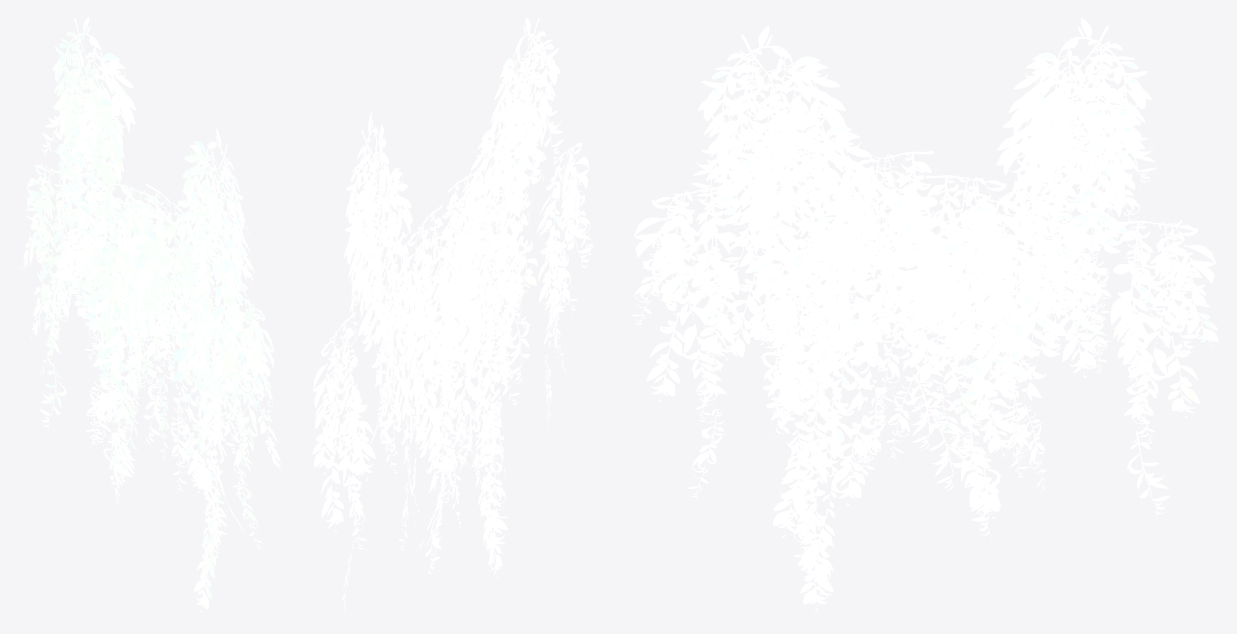
3 renders of one model, left to right at view 1: azimuth 30°, elevation 25°; view 2: azimuth 150°, elevation 25°; view 3: azimuth 270°, elevation 25°, orthographic. The views are drawn at different scales.
Visible parts, largest first — view 1: SM_BM_Climbing_A_07_LOD0; view 2: SM_BM_Climbing_A_07_LOD0; view 3: SM_BM_Climbing_A_07_LOD0.
Boxes of the visible parts, x1,y1,x2,y2 form: SM_BM_Climbing_A_07_LOD0: (19, 17, 281, 613); SM_BM_Climbing_A_07_LOD0: (312, 17, 593, 611); SM_BM_Climbing_A_07_LOD0: (630, 18, 1218, 613).
Bounding box in the file's own units: 0.8381 × 5.69 × 5.07.
1 material, 1 textured.
